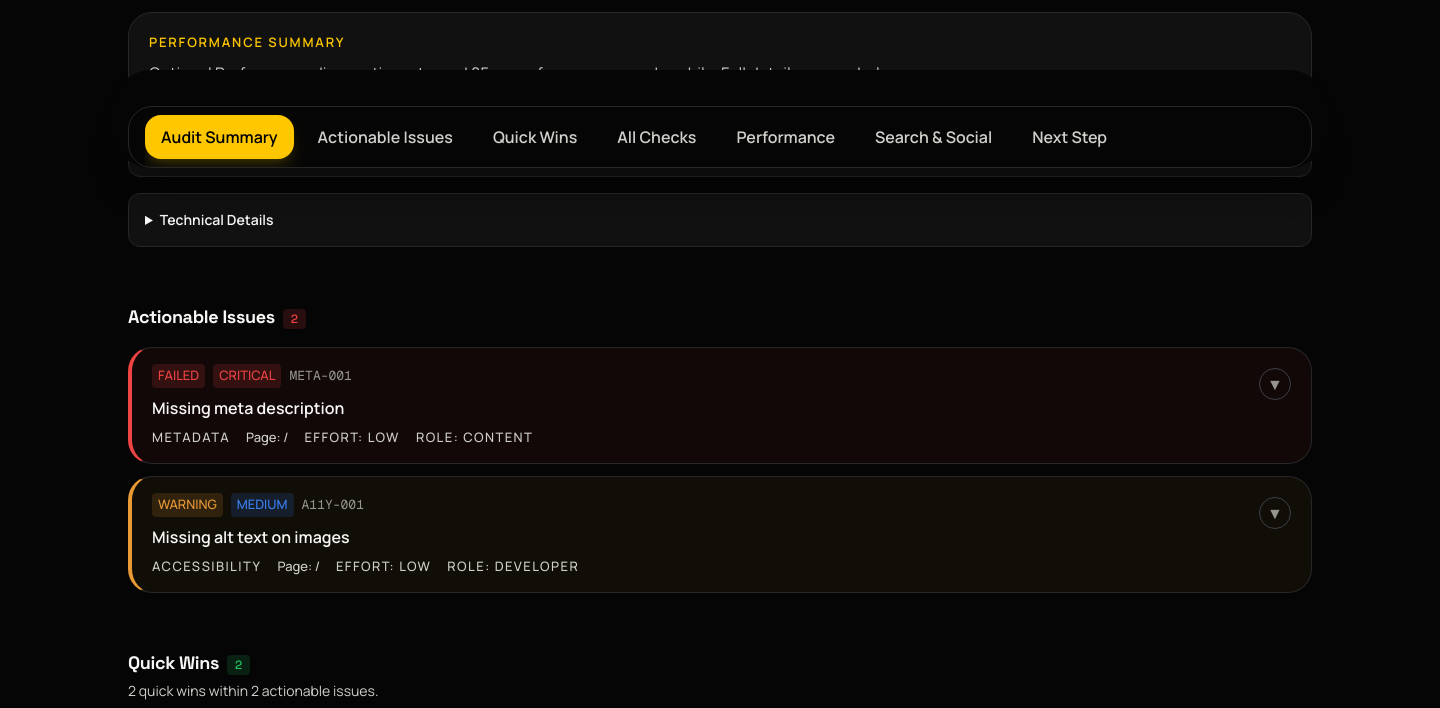
Scenario: ResultPage › renders affected page and structured evidence for findings
(page scrolled)
Click the 1st button "Missing meta description". click: [179, 376]
box: left=132, top=348, right=1311, bottom=463
(page scrolled)
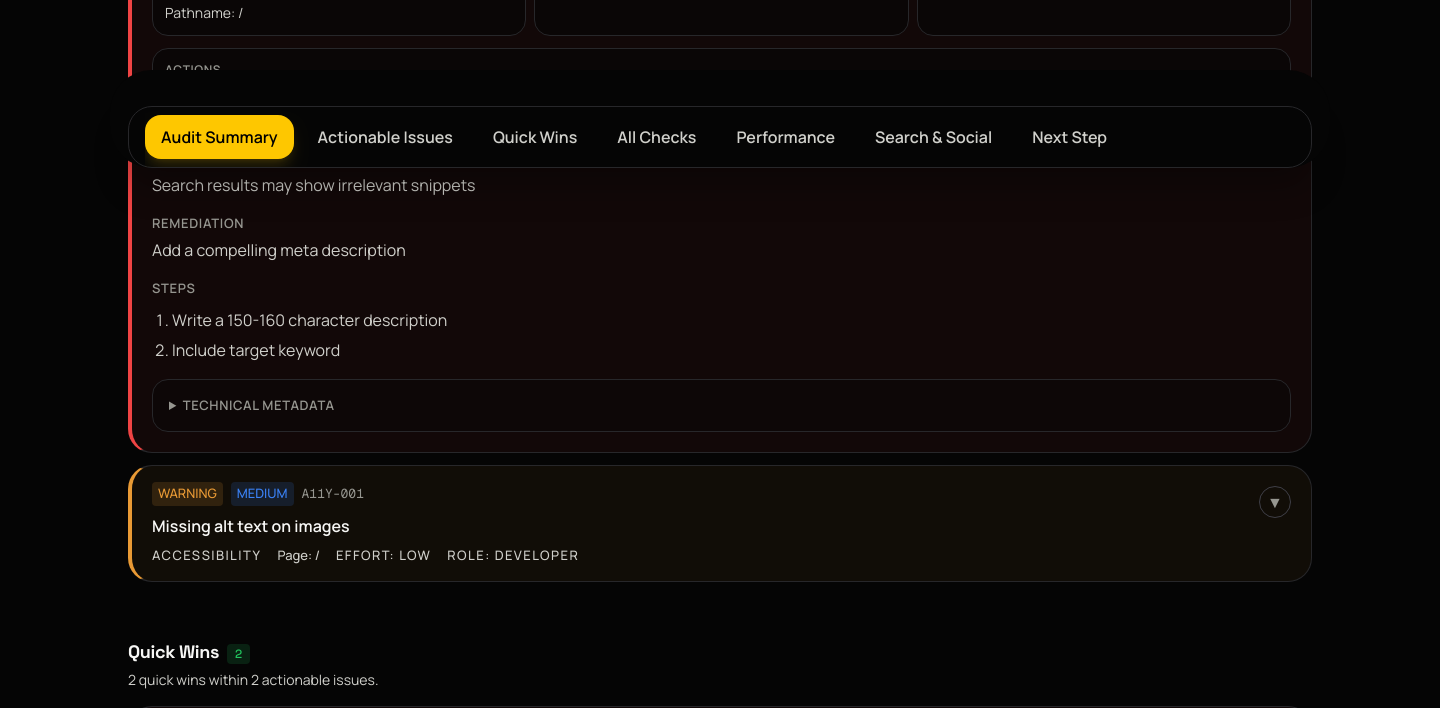
Expected: the text "Pathname: /" is shown, left=165, top=3, right=243, bottom=22
Expected: the heading "Technical metadata" is shown, left=183, top=396, right=335, bottom=414
Expected: the number of links "Open Page" is 1, left=165, top=87, right=263, bottom=123
